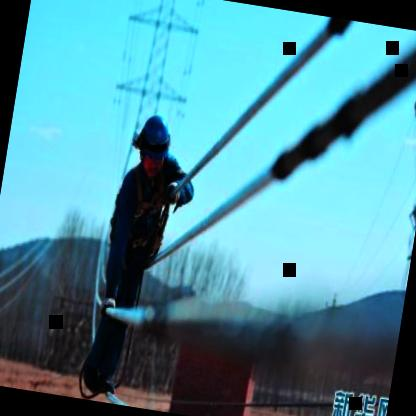helmet: (129, 106, 176, 181)
